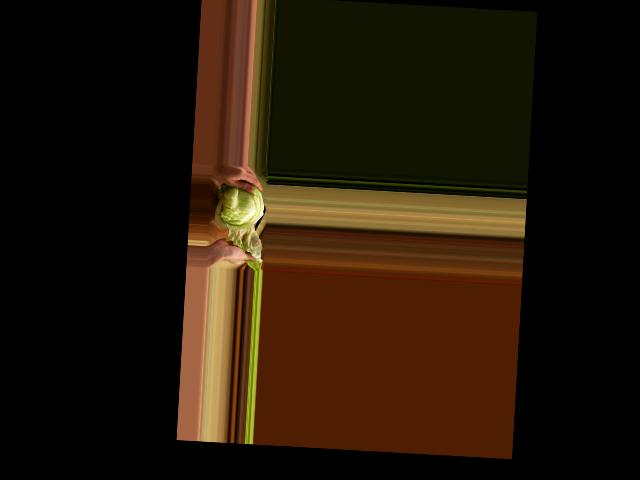lettuce: (210, 178, 267, 242)
